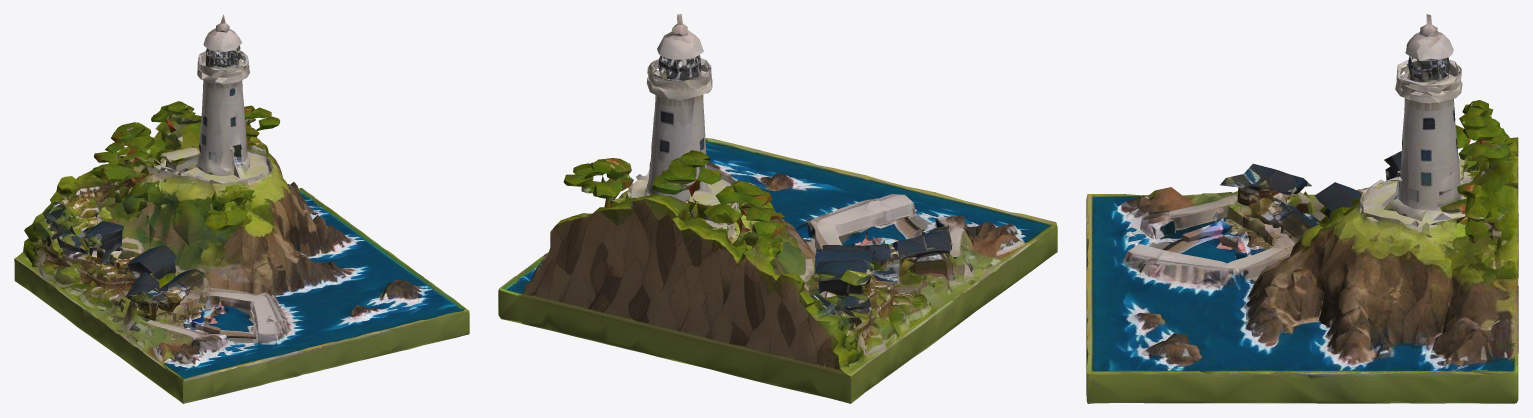
The model's file is daiozaki-lighthouse.glb.
The picture shows the model from 3 angles, left to right: view 1: azimuth 30°, elevation 25°; view 2: azimuth 150°, elevation 25°; view 3: azimuth 270°, elevation 25°; orthographic projection. The views are drawn at different scales.
Visible parts, largest first — view 1: logan-textured.obj; view 2: logan-textured.obj; view 3: logan-textured.obj.
Boxes of the visible parts, x1=… form: logan-textured.obj: x1=14, y1=14, x2=469, y2=403; logan-textured.obj: x1=498, y1=14, x2=1057, y2=403; logan-textured.obj: x1=1086, y1=14, x2=1518, y2=403.
Bounding box in the file's own units: 0.9838 × 0.8173 × 1.
Materials: 1 (1 with a texture image).
